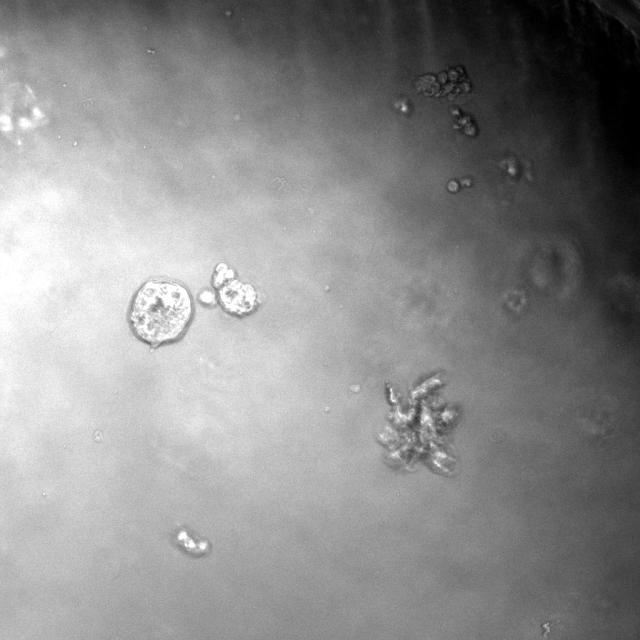organoid: (378, 372, 460, 475), (129, 277, 192, 348), (197, 262, 258, 317), (412, 65, 472, 101), (172, 527, 211, 557), (451, 106, 478, 136), (446, 177, 472, 193)
